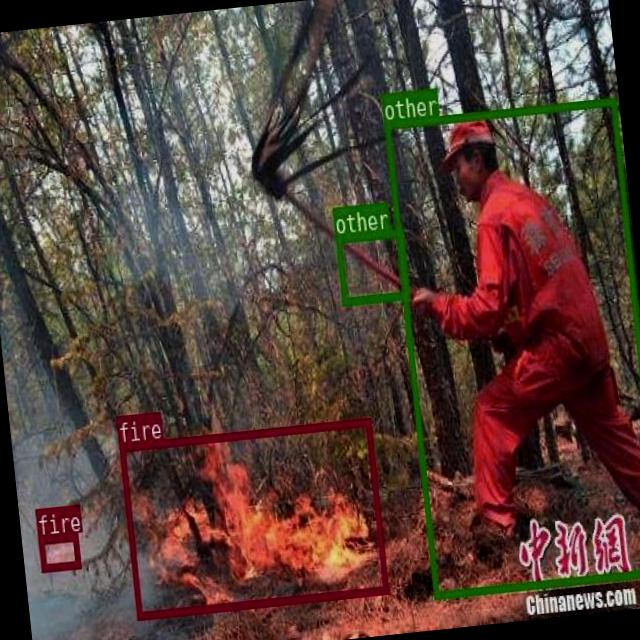fire: (118, 417, 387, 618), (37, 532, 80, 571)
